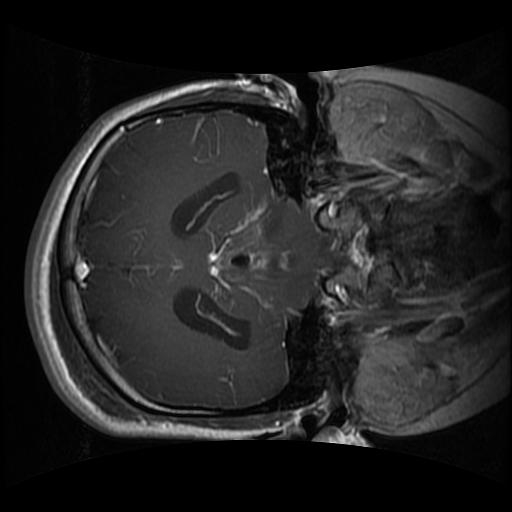glioma: (202, 195, 293, 313)
